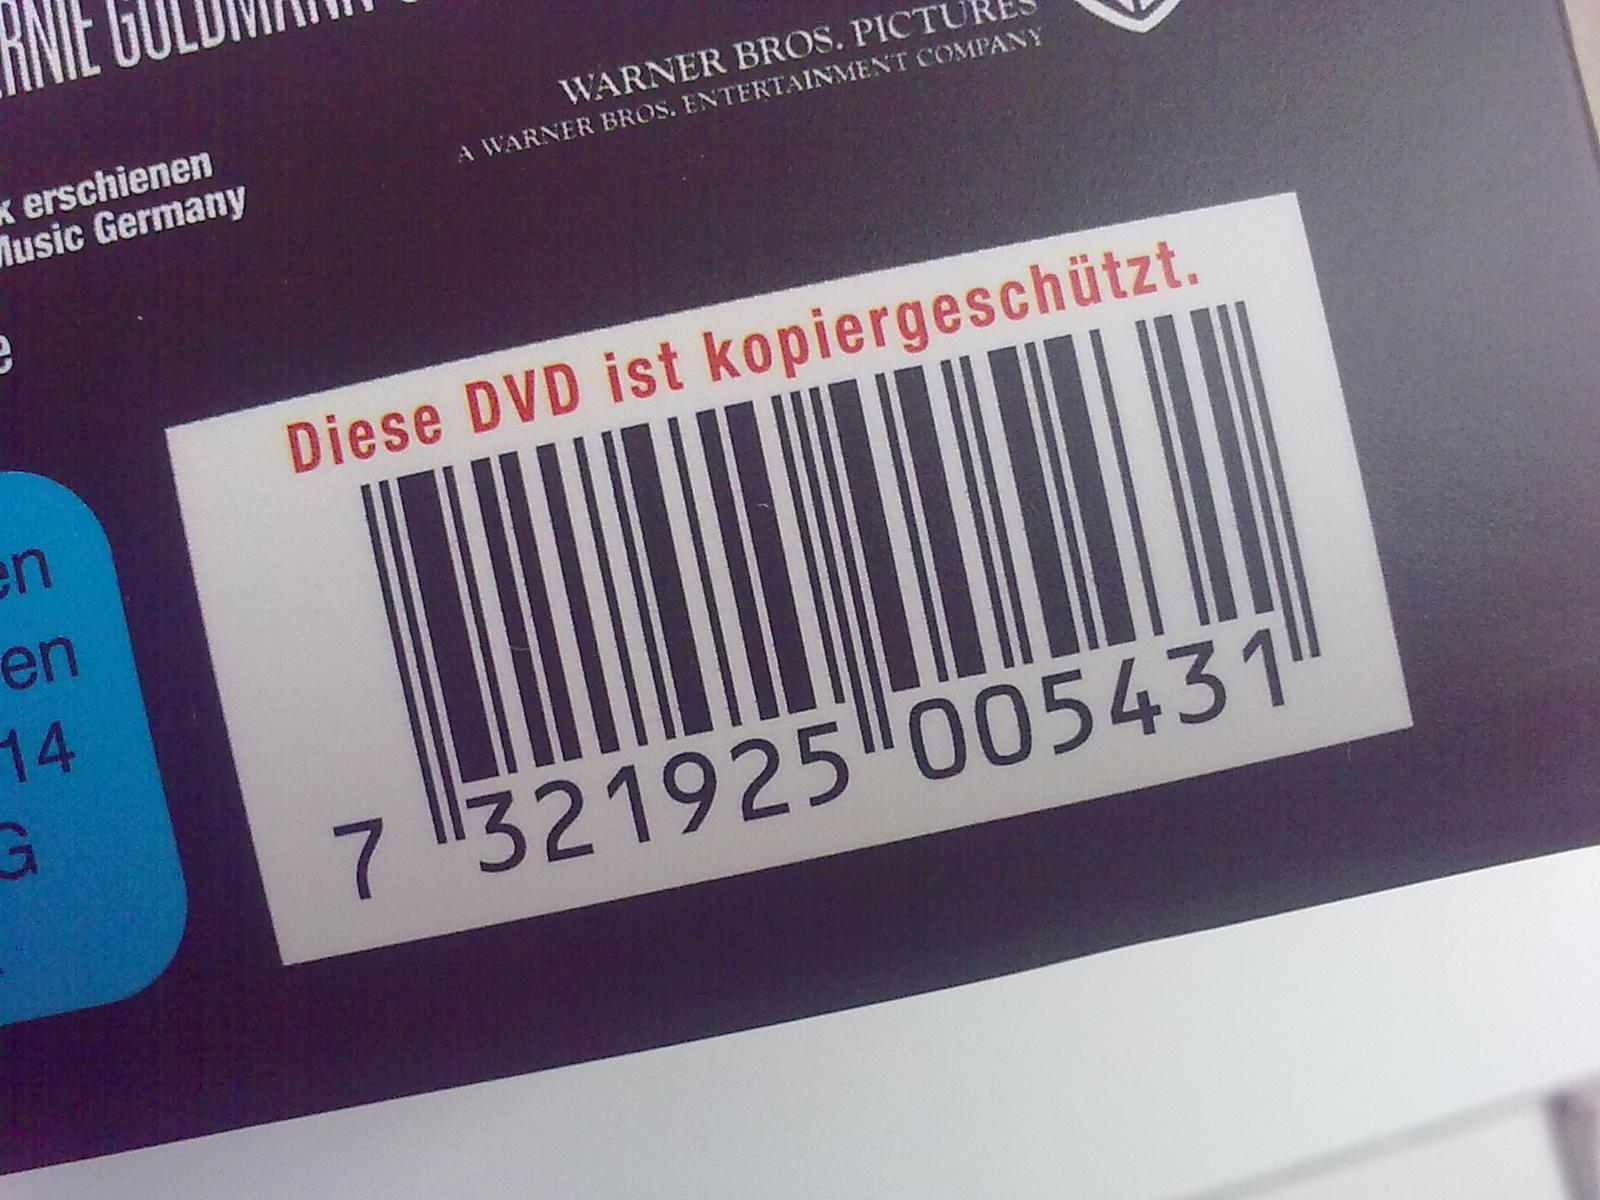barcode: (168, 192, 1414, 969)
